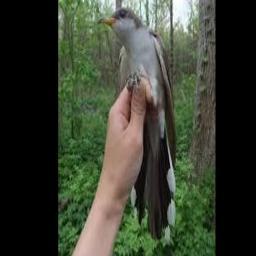Cuckoo: (98, 6, 176, 239)
